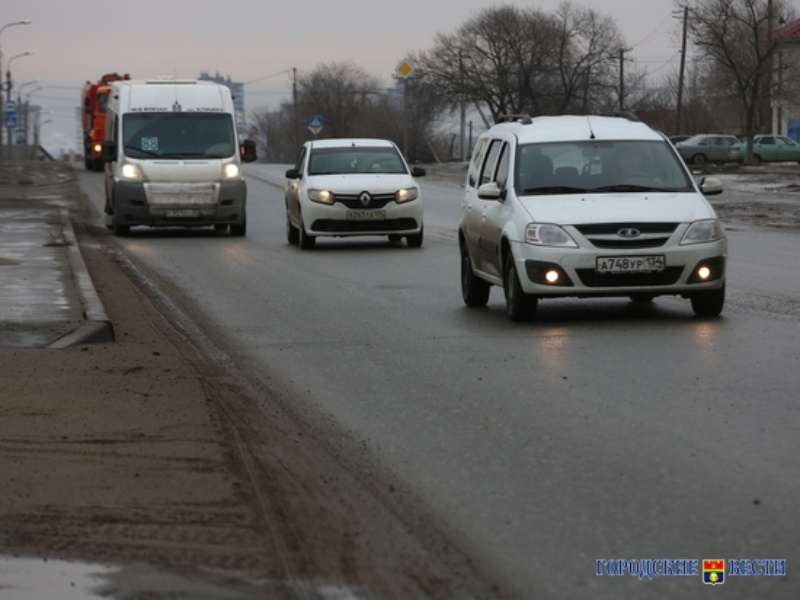car: (459, 114, 728, 316), (103, 79, 247, 236), (285, 137, 426, 247), (82, 74, 132, 171), (730, 134, 800, 164), (676, 134, 740, 163)
plate: (598, 256, 664, 272), (346, 209, 385, 221), (167, 208, 197, 217)
